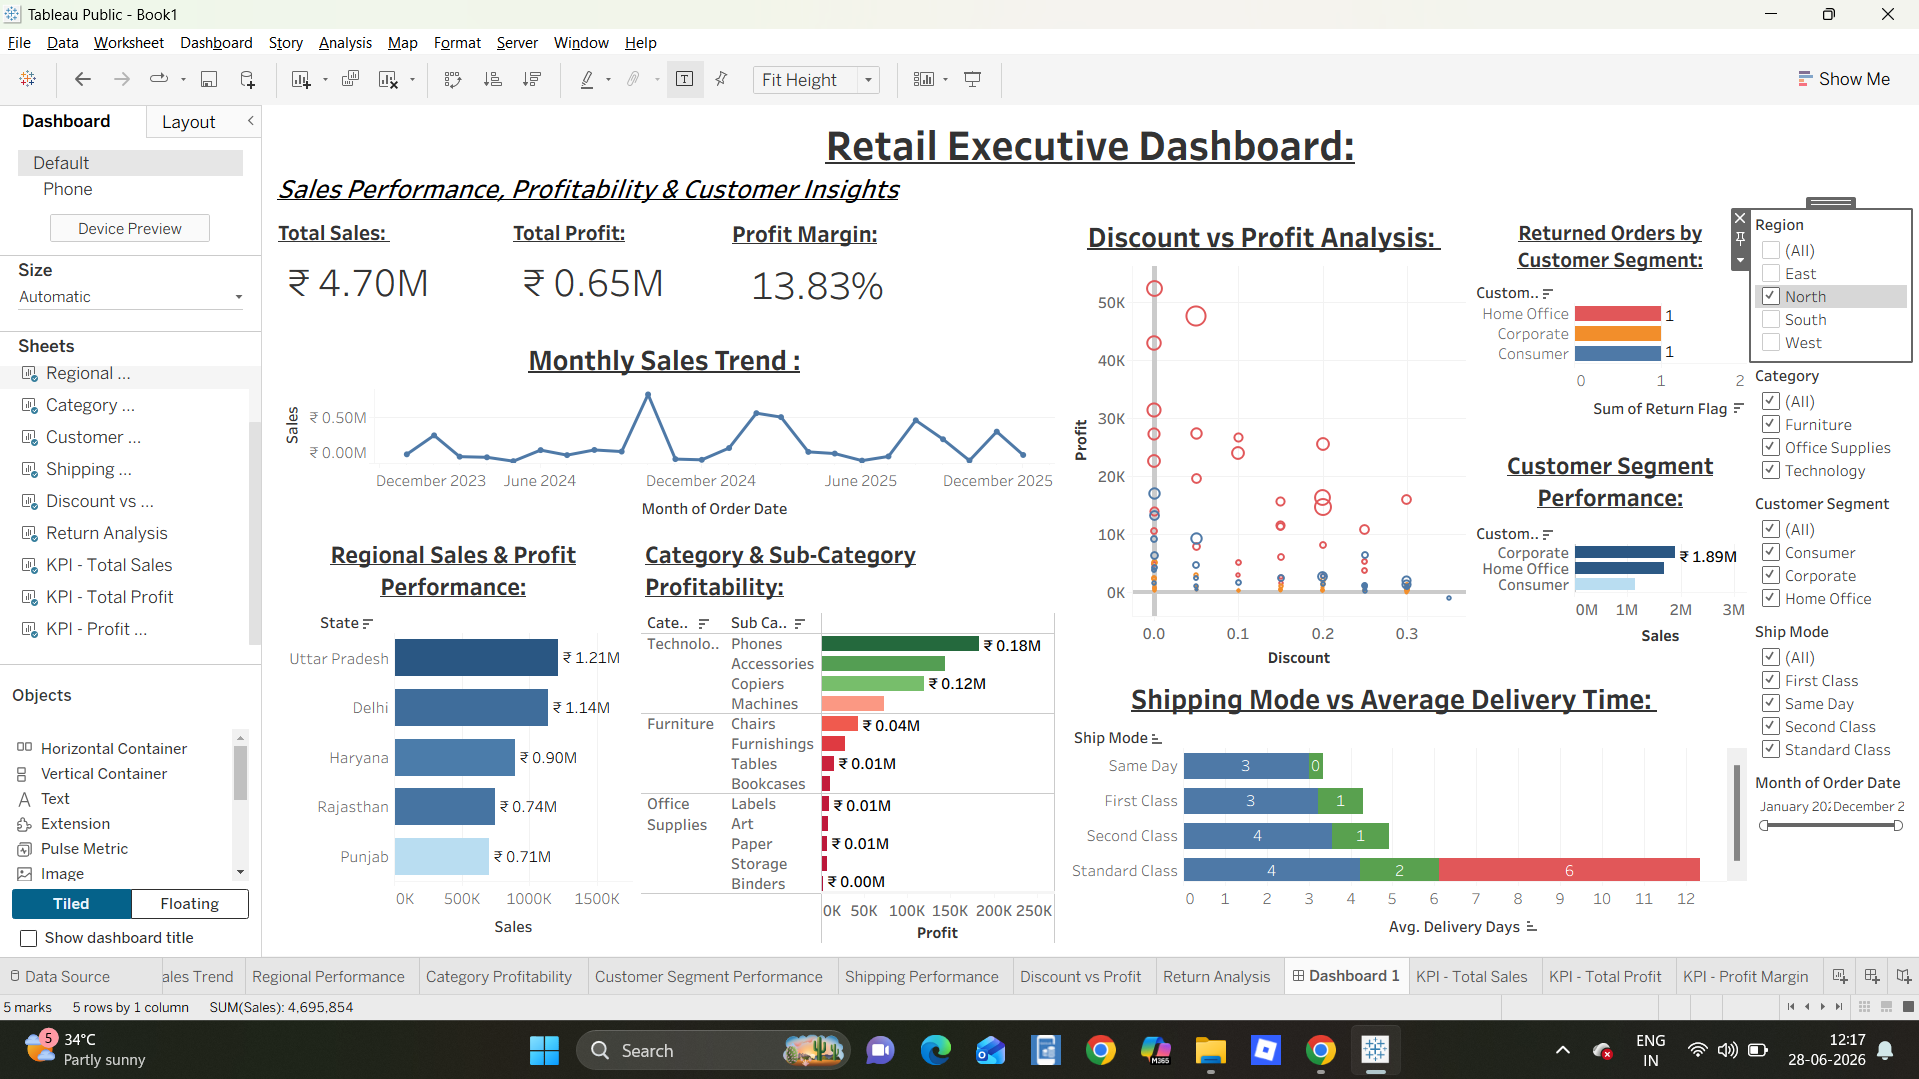

This screenshot's page, from the dashboard's own definition file:
{"tool":"tableau","page":{"name":"Dashboard 1","canvas":[1000,1000],"units":"permille","ordinal":0},"visuals":[{"type":"title","box":[4.8,9.4,990.3,114]},{"type":"worksheet","title":"KPI - Total Sales","mark":"Automatic","box":[4.8,123.4,141.7,144.5]},{"type":"worksheet","title":"KPI - Total Profit","mark":"Automatic","box":[146.5,123.4,132.3,144.5]},{"type":"worksheet","title":"KPI - Profit Margin","mark":"Automatic","box":[278.8,123.4,202.2,144.5]},{"type":"worksheet","title":"Discount vs Profit","mark":"Automatic","rows":["profit"],"cols":["discount"],"box":[481,123.4,248,542.9]},{"type":"worksheet","title":"Return Analysis","mark":"Automatic","rows":["customer_segment"],"cols":["return_flag"],"box":[729,123.4,169.6,271.4]},{"type":"filter","title":"Regional Performance","param":"[federated.0yggp4m1rm4ceb18mac3l0upx1c3].[none:region:nk]","box":[898.6,123.4,96.6,177.4]},{"type":"worksheet","title":"Sales Trend","mark":"Line","rows":["sales"],"cols":["order_date"],"box":[4.8,267.9,476.2,231.5]},{"type":"filter","title":"Category Profitability","param":"[federated.0yggp4m1rm4ceb18mac3l0upx1c3].[none:category:nk]","box":[898.6,300.8,96.6,150.4]},{"type":"worksheet","title":"Customer Segment Performance","mark":"Automatic","rows":["customer_segment"],"cols":["sales"],"box":[729,394.8,169.6,271.4]},{"type":"filter","title":"Customer Segment Performance","param":"[federated.0yggp4m1rm4ceb18mac3l0upx1c3].[none:customer_segment:nk]","box":[898.6,451.2,96.6,150.4]},{"type":"worksheet","title":"Regional Performance","mark":"Automatic","rows":["state"],"cols":["sales"],"box":[4.8,499.4,221.5,491.2]},{"type":"worksheet","title":"Category Profitability","mark":"Automatic","rows":["category","sub_category"],"cols":["profit"],"box":[226.3,499.4,254.7,491.2]},{"type":"filter","title":"Shipping Performance","param":"[federated.0yggp4m1rm4ceb18mac3l0upx1c3].[none:ship_mode:nk]","box":[898.6,601.6,96.6,177.4]},{"type":"worksheet","title":"Shipping Performance","mark":"Automatic","rows":["ship_mode"],"cols":["delivery_days"],"box":[481,666.3,417.6,324.3]},{"type":"filter","title":"Sales Trend","param":"[federated.0yggp4m1rm4ceb18mac3l0upx1c3].[tmn:order_date:qk]","box":[898.6,779.1,96.6,85.8]}]}

Visuals, with their boxes on the dashboard's canvas, which has no fixed pixel size, in thousandths of its width and height (x1, y1, x2, y2). These are canvas units, not pixel positions in the 1919x1079 screenshot, which may show the page scaled, cropped or inside an application window:
title: 5,9,995,123
"KPI - Total Sales" worksheet: 5,123,146,268
"KPI - Total Profit" worksheet: 146,123,279,268
"KPI - Profit Margin" worksheet: 279,123,481,268
"Discount vs Profit" worksheet: 481,123,729,666
"Return Analysis" worksheet: 729,123,899,395
"Regional Performance" filter: 899,123,995,301
"Sales Trend" worksheet (Line marks): 5,268,481,499
"Category Profitability" filter: 899,301,995,451
"Customer Segment Performance" worksheet: 729,395,899,666
"Customer Segment Performance" filter: 899,451,995,602
"Regional Performance" worksheet: 5,499,226,991
"Category Profitability" worksheet: 226,499,481,991
"Shipping Performance" filter: 899,602,995,779
"Shipping Performance" worksheet: 481,666,899,991
"Sales Trend" filter: 899,779,995,865
